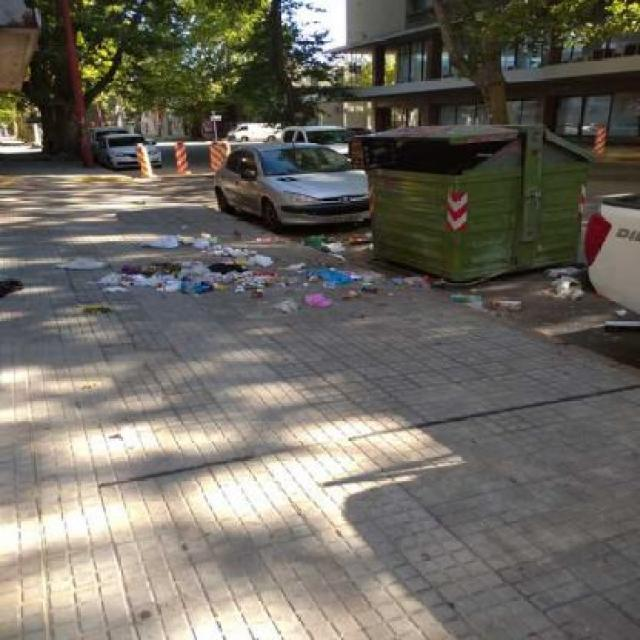garbage: (42, 237, 455, 313), (343, 137, 496, 174), (465, 282, 598, 316), (540, 258, 594, 284)
